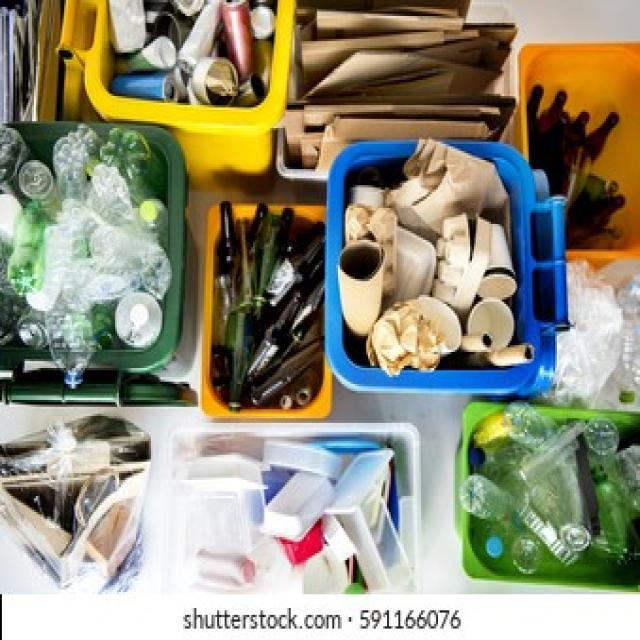cardboard: (370, 178, 517, 361), (24, 448, 122, 581)
glass: (242, 249, 306, 380)
metal: (149, 14, 259, 89)
plastic: (17, 167, 151, 343), (230, 448, 382, 581), (502, 446, 610, 551)
